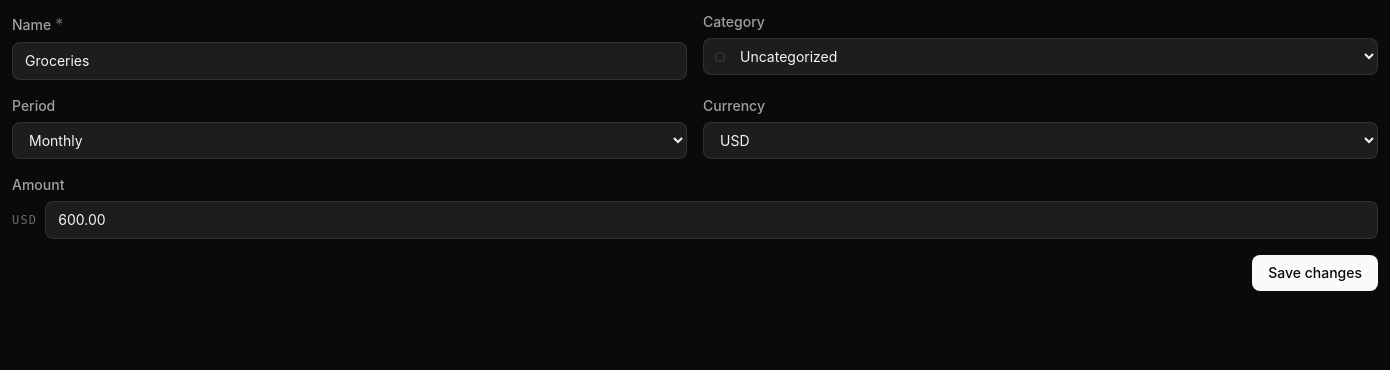
Test: BudgetForm — edit › shows a friendly error when the chosen category can't be found (404)
The image size is (1390, 370).
Expected: the dropdown labelled "Category" is shown, [703, 38, 1378, 75]
Click the button "Save changes" at (1315, 273), box [1252, 255, 1378, 291]
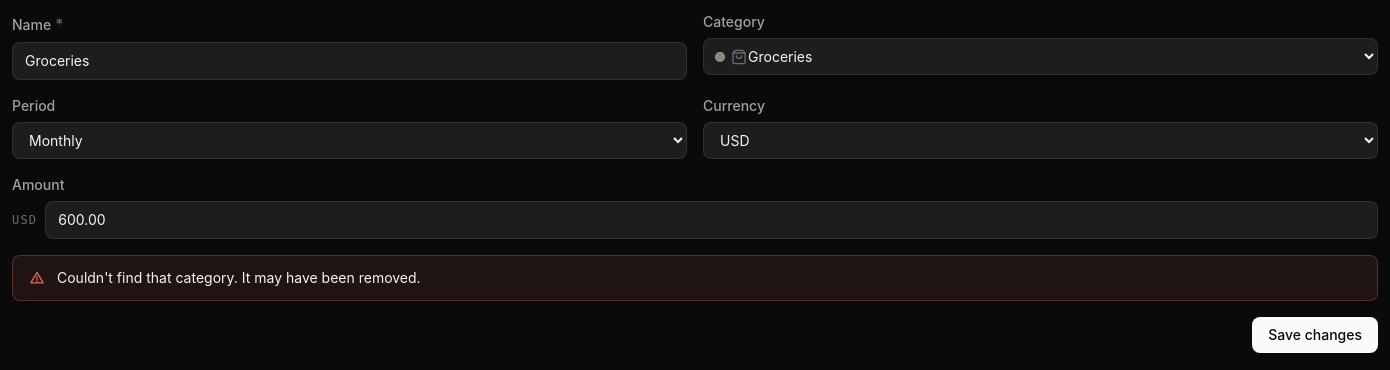
Result: the message shows "category" at [57, 269, 421, 286]
